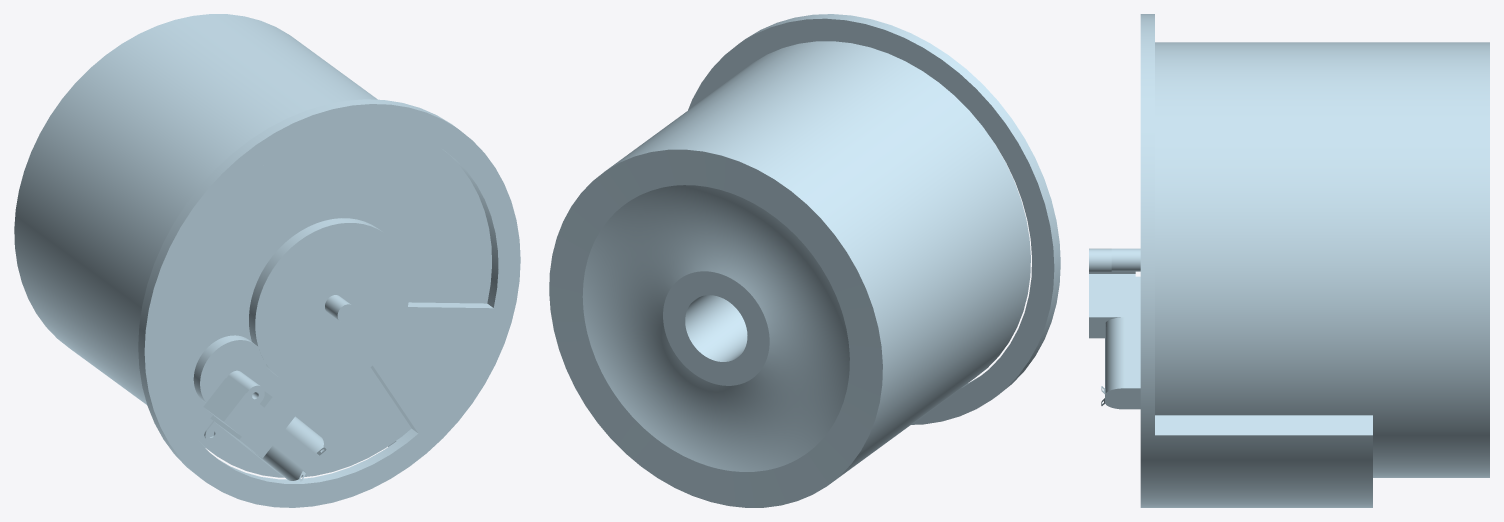
Rendered from suitorikun.gltf.
3 renders of one model, left to right at view 1: azimuth 30°, elevation 25°; view 2: azimuth 150°, elevation 25°; view 3: azimuth 270°, elevation 25°, orthographic. The views are drawn at different scales.
Visible parts, largest first — view 1: mesh65_meshnode_65, mesh80_meshnode_80, mesh66_meshnode_66, mesh79_meshnode_79, mesh15_meshnode_15, mesh86_meshnode_86, mesh78_meshnode_78, mesh76_meshnode_76, mesh22_meshnode_22, mesh38_meshnode_38, mesh40_meshnode_40, mesh39_meshnode_39 (+1 smaller); view 2: mesh65_meshnode_65, mesh63_meshnode_63, mesh64_meshnode_64, mesh81_meshnode_81, mesh62_meshnode_62, mesh79_meshnode_79, mesh61_meshnode_61; view 3: mesh65_meshnode_65, mesh79_meshnode_79, mesh83_meshnode_83, mesh29_meshnode_29, mesh39_meshnode_39, mesh28_meshnode_28, mesh73_meshnode_73, mesh18_meshnode_18.
Boxes of the visible parts, left/top/right/bottom form: mesh65_meshnode_65: left=14, top=14, right=377, bottom=454; mesh80_meshnode_80: left=144, top=104, right=520, bottom=507; mesh66_meshnode_66: left=166, top=128, right=491, bottom=477; mesh79_meshnode_79: left=138, top=99, right=456, bottom=479; mesh15_meshnode_15: left=224, top=385, right=295, bottom=458; mesh86_meshnode_86: left=200, top=340, right=266, bottom=402; mesh78_meshnode_78: left=219, top=149, right=498, bottom=483; mesh76_meshnode_76: left=249, top=218, right=382, bottom=376; mesh22_meshnode_22: left=203, top=378, right=245, bottom=421; mesh38_meshnode_38: left=273, top=430, right=318, bottom=471; mesh40_meshnode_40: left=250, top=445, right=306, bottom=480; mesh39_meshnode_39: left=285, top=416, right=323, bottom=456; mesh65_meshnode_65: left=606, top=41, right=1030, bottom=484; mesh63_meshnode_63: left=582, top=185, right=849, bottom=471; mesh64_meshnode_64: left=549, top=149, right=882, bottom=507; mesh81_meshnode_81: left=688, top=18, right=1054, bottom=424; mesh62_meshnode_62: left=663, top=271, right=769, bottom=385; mesh79_meshnode_79: left=740, top=14, right=1060, bottom=396; mesh61_meshnode_61: left=685, top=295, right=747, bottom=361; mesh65_meshnode_65: left=1155, top=42, right=1489, bottom=477; mesh79_meshnode_79: left=1140, top=14, right=1372, bottom=507; mesh83_meshnode_83: left=1155, top=415, right=1372, bottom=435; mesh29_meshnode_29: left=1089, top=276, right=1140, bottom=388; mesh39_meshnode_39: left=1105, top=317, right=1124, bottom=393; mesh28_meshnode_28: left=1102, top=388, right=1140, bottom=409; mesh73_meshnode_73: left=1111, top=248, right=1140, bottom=271; mesh18_meshnode_18: left=1089, top=248, right=1135, bottom=272.
Size of the model in its own units: 0.17 by 0.17 by 0.138.
